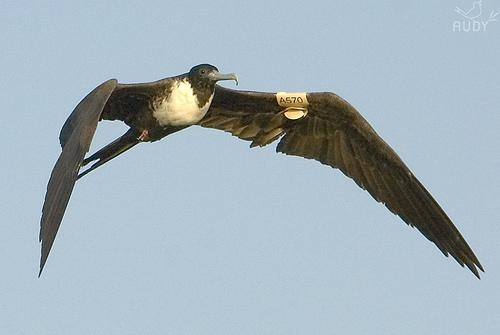bird: (32, 62, 484, 278)
